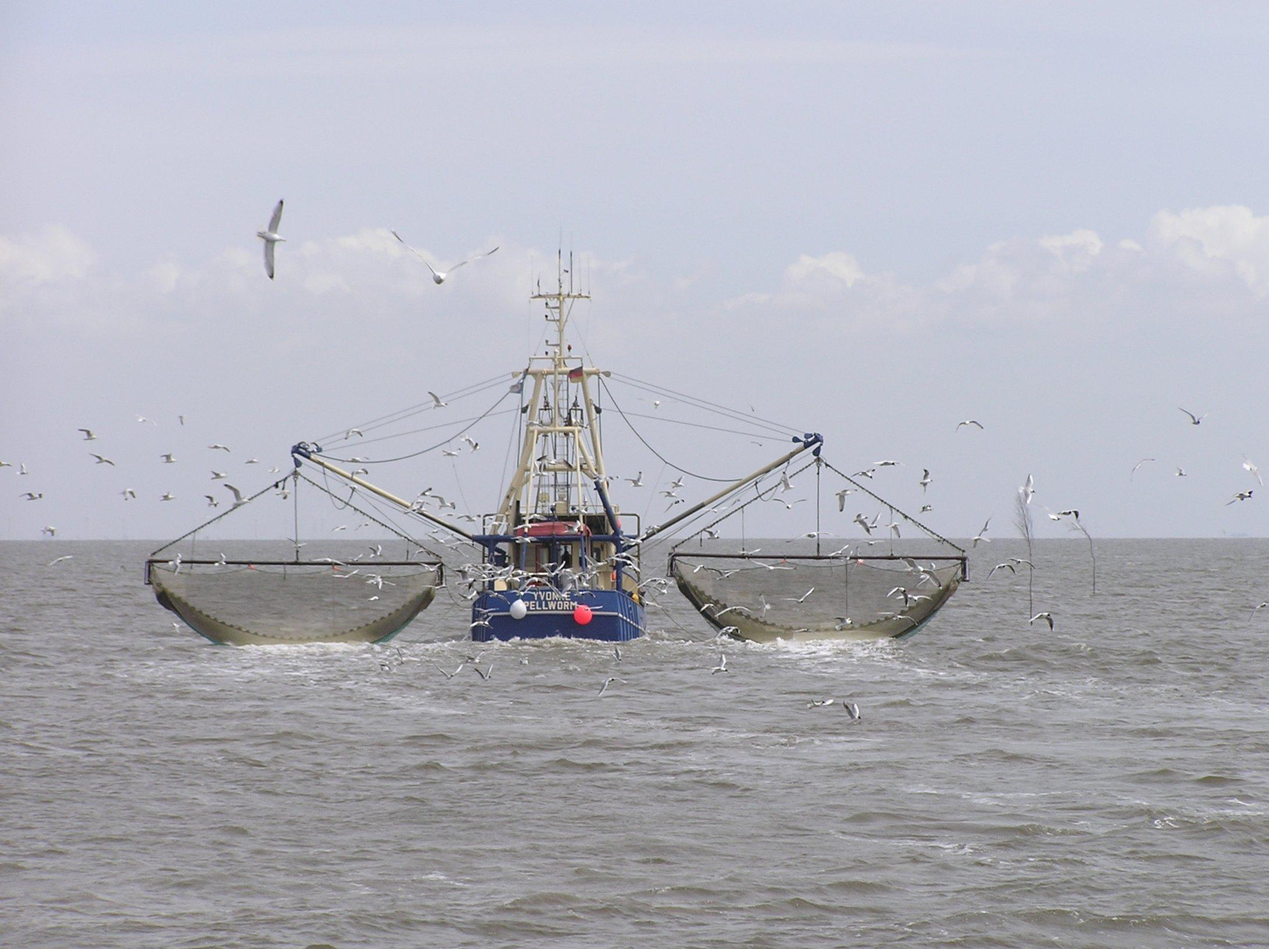fishing boat: (138, 229, 975, 651)
